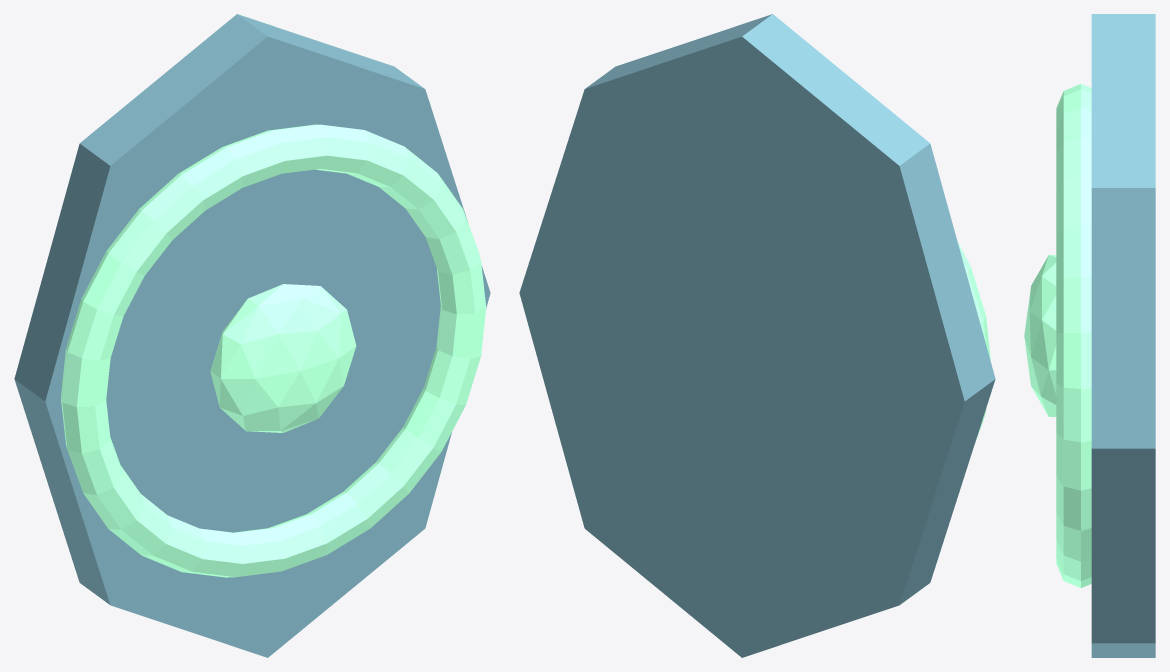
The model's file is clover-aegis.glb.
3 renders of one model, left to right at view 1: azimuth 30°, elevation 25°; view 2: azimuth 150°, elevation 25°; view 3: azimuth 270°, elevation 25°, orthographic. The views are drawn at different scales.
Visible parts, largest first — view 1: ShieldBody, ShieldRim, ShieldBoss; view 2: ShieldBody, ShieldRim; view 3: ShieldBody, ShieldRim, ShieldBoss.
Boxes of the visible parts, x1,y1,x2,y2 form: ShieldBody: (14,14,490,657); ShieldRim: (61,124,486,577); ShieldBoss: (210,284,356,432); ShieldBody: (519,14,995,657); ShieldRim: (957,241,990,440); ShieldBody: (1091,14,1155,657); ShieldRim: (1056,84,1091,587); ShieldBoss: (1024,255,1056,416).
Size of the model in its own units: 1.5 by 2 by 0.37.
